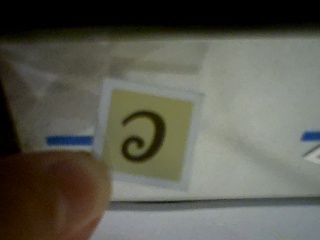C: (100, 88, 195, 184)
